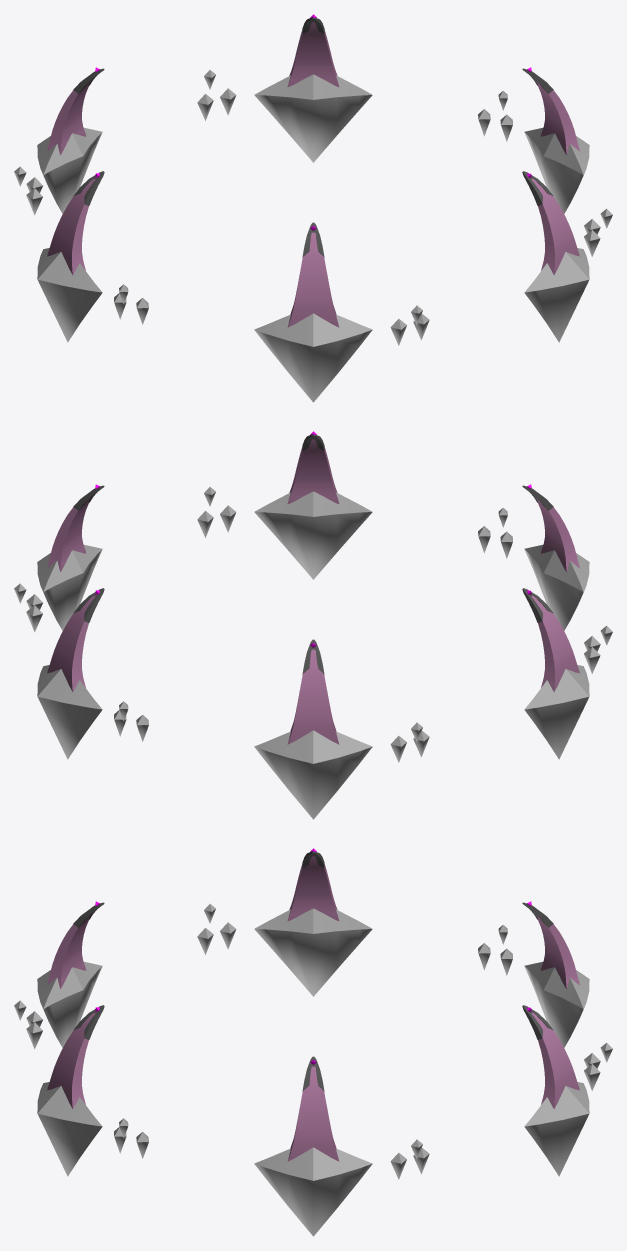
File: AM_BigCircle.fbx
The picture shows the model from 3 angles, top to bottom: view 1: azimuth 30°, elevation 25°; view 2: azimuth 150°, elevation 25°; view 3: azimuth 270°, elevation 25°; orthographic projection.
Parts seen in each view (by area): view 1: AM_Circle5, AM_Circle2, AM_Circle4, AM_Circle6, AM_Circle1, AM_Circle3; view 2: AM_Circle3, AM_Circle6, AM_Circle2, AM_Circle4, AM_Circle5, AM_Circle1; view 3: AM_Circle1, AM_Circle4, AM_Circle2, AM_Circle6, AM_Circle3, AM_Circle5.
Part boxes in pixels (x1,y1,x2,y2): AM_Circle5: (254,222,372,402); AM_Circle2: (254,14,372,162); AM_Circle4: (37,171,104,342); AM_Circle6: (522,171,589,342); AM_Circle1: (522,67,589,213); AM_Circle3: (37,67,104,213); AM_Circle3: (254,639,372,819); AM_Circle6: (254,431,372,579); AM_Circle2: (37,588,104,759); AM_Circle4: (522,588,589,759); AM_Circle5: (522,484,589,630); AM_Circle1: (37,484,104,630); AM_Circle1: (254,1056,372,1236); AM_Circle4: (254,848,372,996); AM_Circle2: (522,1005,589,1176); AM_Circle6: (37,1005,104,1176); AM_Circle3: (522,901,589,1047); AM_Circle5: (37,901,104,1047).
Size of the model in its own units: 118 by 111 by 33.18.
